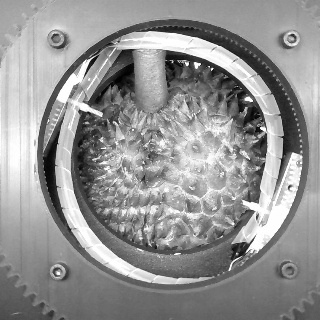base: (126, 91, 175, 119)
